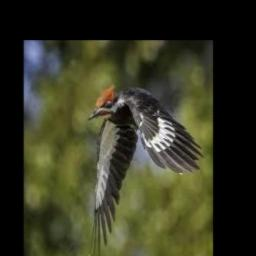Woodpecker: (88, 83, 204, 256)
